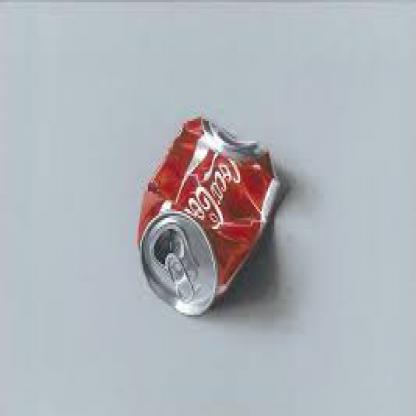METAL: (135, 112, 279, 317)
